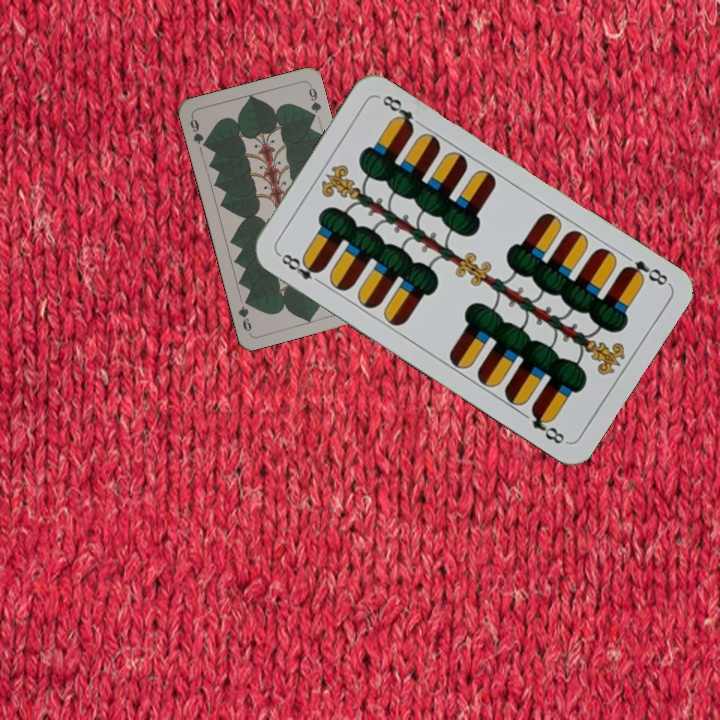E8: (274, 249, 326, 288), (618, 256, 672, 289)
G9: (186, 113, 210, 151)
